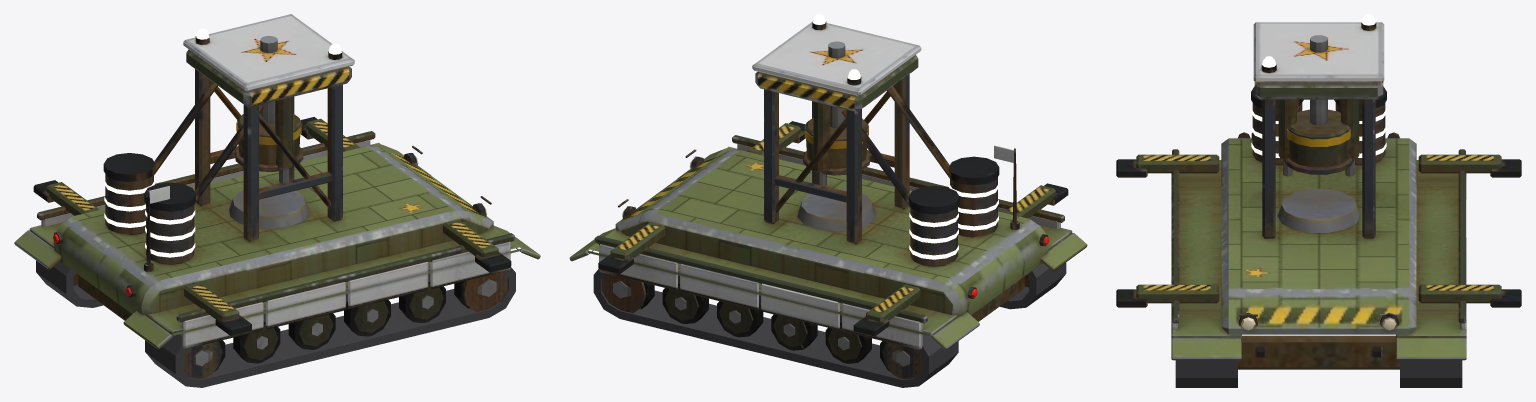
File: qtnk.soviet.glb
The picture shows the model from 3 angles, left to right: view 1: azimuth 30°, elevation 25°; view 2: azimuth 150°, elevation 25°; view 3: azimuth 270°, elevation 25°; orthographic projection. The views are drawn at different scales.
Visible parts, largest first — view 1: root_mesh, ram_mesh, leg2_mesh, leg0_mesh, leg3_mesh, leg1_mesh; view 2: root_mesh, ram_mesh, leg3_mesh, leg1_mesh, leg2_mesh, leg0_mesh; view 3: root_mesh, ram_mesh, leg0_mesh, leg1_mesh, leg2_mesh, leg3_mesh.
Boxes of the visible parts, box(x1,y1,x2,y2) form: root_mesh: box(14, 14, 540, 387); ram_mesh: box(234, 36, 303, 171); leg2_mesh: box(184, 282, 251, 335); leg0_mesh: box(443, 219, 511, 272); leg3_mesh: box(33, 180, 99, 215); leg1_mesh: box(301, 117, 360, 151); root_mesh: box(569, 14, 1087, 387); ram_mesh: box(803, 41, 870, 175); leg3_mesh: box(853, 284, 920, 336); leg1_mesh: box(598, 222, 665, 274); leg2_mesh: box(1004, 183, 1068, 218); leg0_mesh: box(747, 121, 805, 155); root_mesh: box(1171, 14, 1466, 387); ram_mesh: box(1283, 35, 1354, 174); leg0_mesh: box(1116, 284, 1219, 307); leg1_mesh: box(1418, 284, 1521, 307); leg2_mesh: box(1116, 154, 1219, 177); leg3_mesh: box(1418, 154, 1521, 177).
Size of the model in its own units: 1.1 by 0.729 by 0.975.
4 materials, 1 textured.
